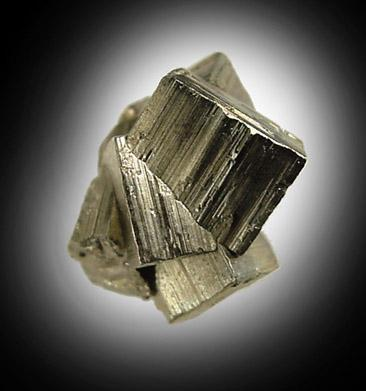pyrite: (67, 52, 307, 327)
